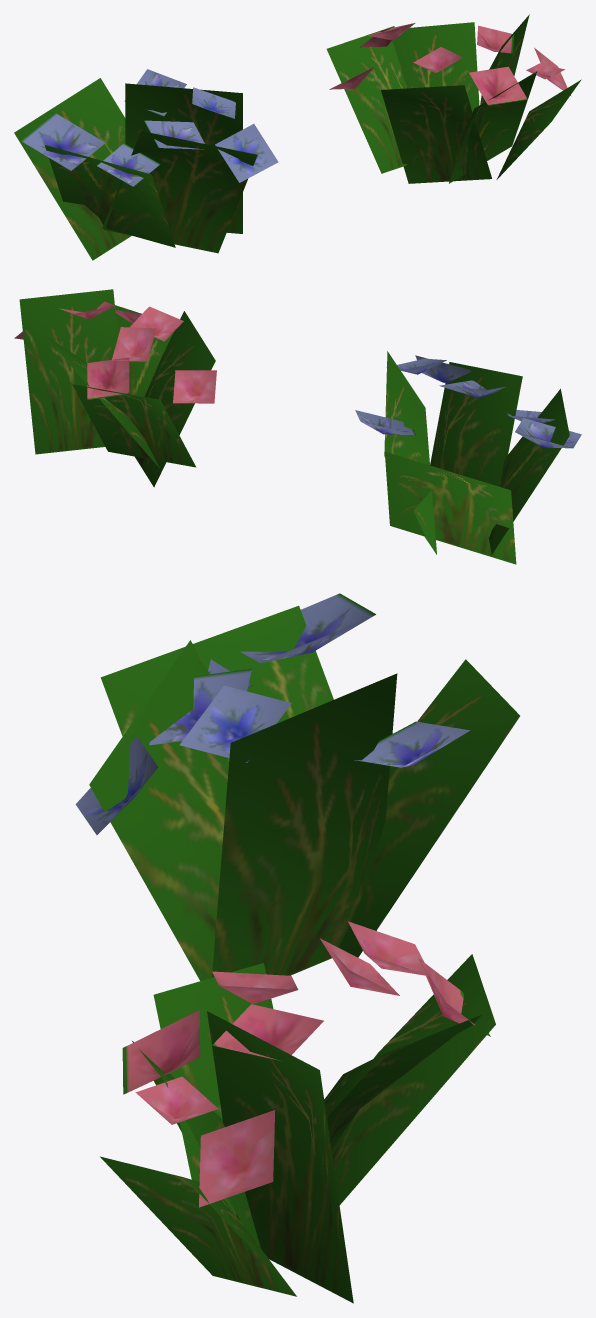
File: FB_1_huacao01.FBX
3 renders of one model, top to bottom at view 1: azimuth 30°, elevation 25°; view 2: azimuth 150°, elevation 25°; view 3: azimuth 270°, elevation 25°, orthographic. The views are drawn at different scales.
Visible parts, largest first — view 1: FB_1_huacao01_001, FB_1_huacao01_002; view 2: FB_1_huacao01_002, FB_1_huacao01_001; view 3: FB_1_huacao01_001, FB_1_huacao01_002.
Part boxes in pixels (x1,y1,x2,y2): FB_1_huacao01_001: [14, 69, 278, 260]; FB_1_huacao01_002: [326, 14, 581, 183]; FB_1_huacao01_002: [14, 289, 216, 487]; FB_1_huacao01_001: [355, 351, 581, 564]; FB_1_huacao01_001: [75, 593, 519, 980]; FB_1_huacao01_002: [100, 921, 495, 1303].
Size of the model in its own units: 431 by 123 by 159.
